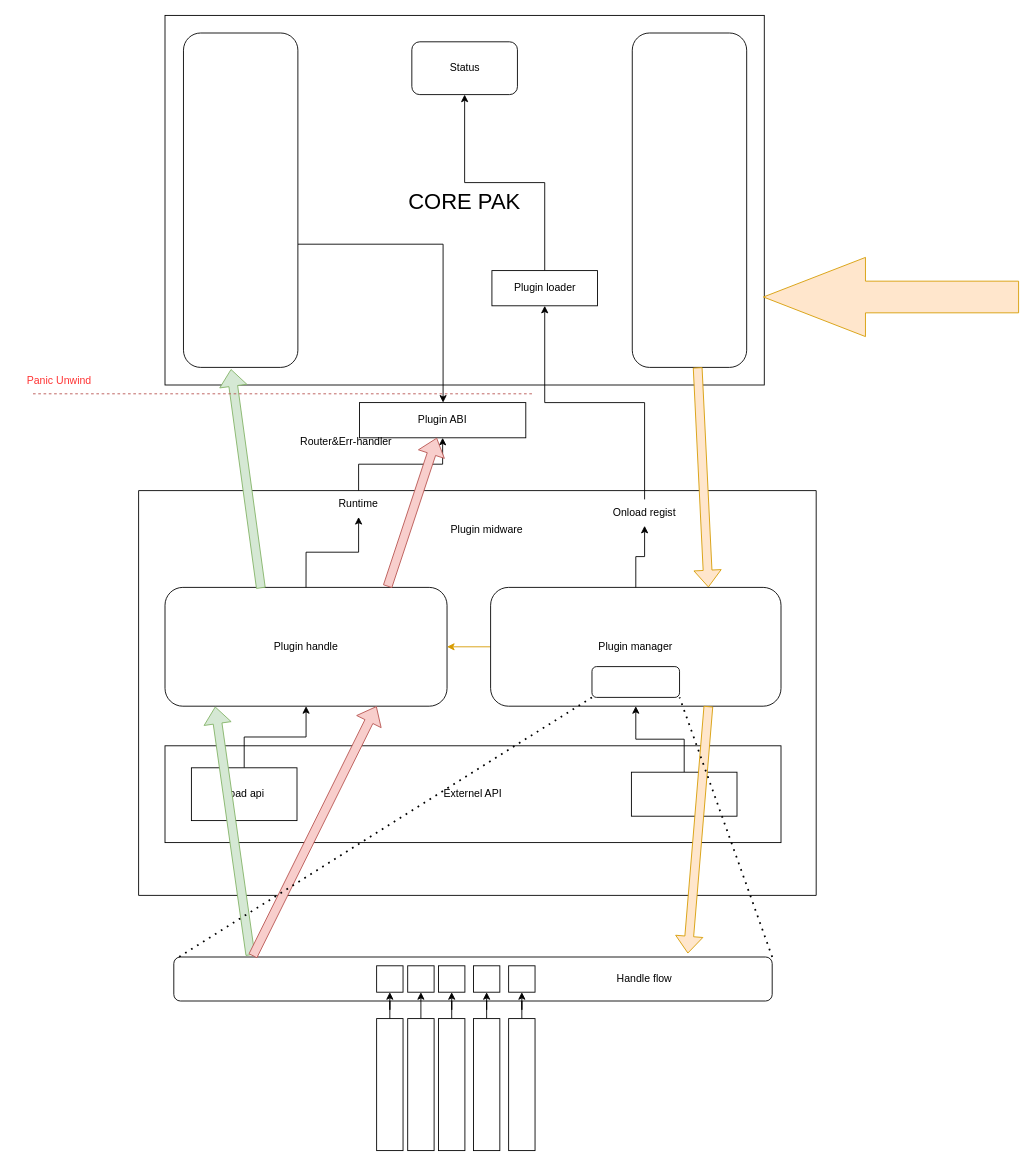
This 1034x1166 diagram has some shape labels left out. The shapes that lost their labels are listed below. From the top down, each one's centre as x and y in pixels, then its label:
At (x=240, y=199): "DBdriver".
At (x=689, y=199): "GateWay".
At (x=891, y=297): "query request".
At (x=684, y=793): "handle controller".
